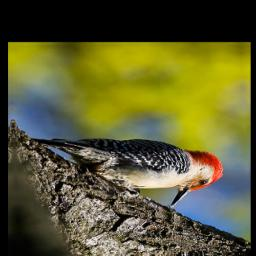Woodpecker: (33, 135, 225, 212)
